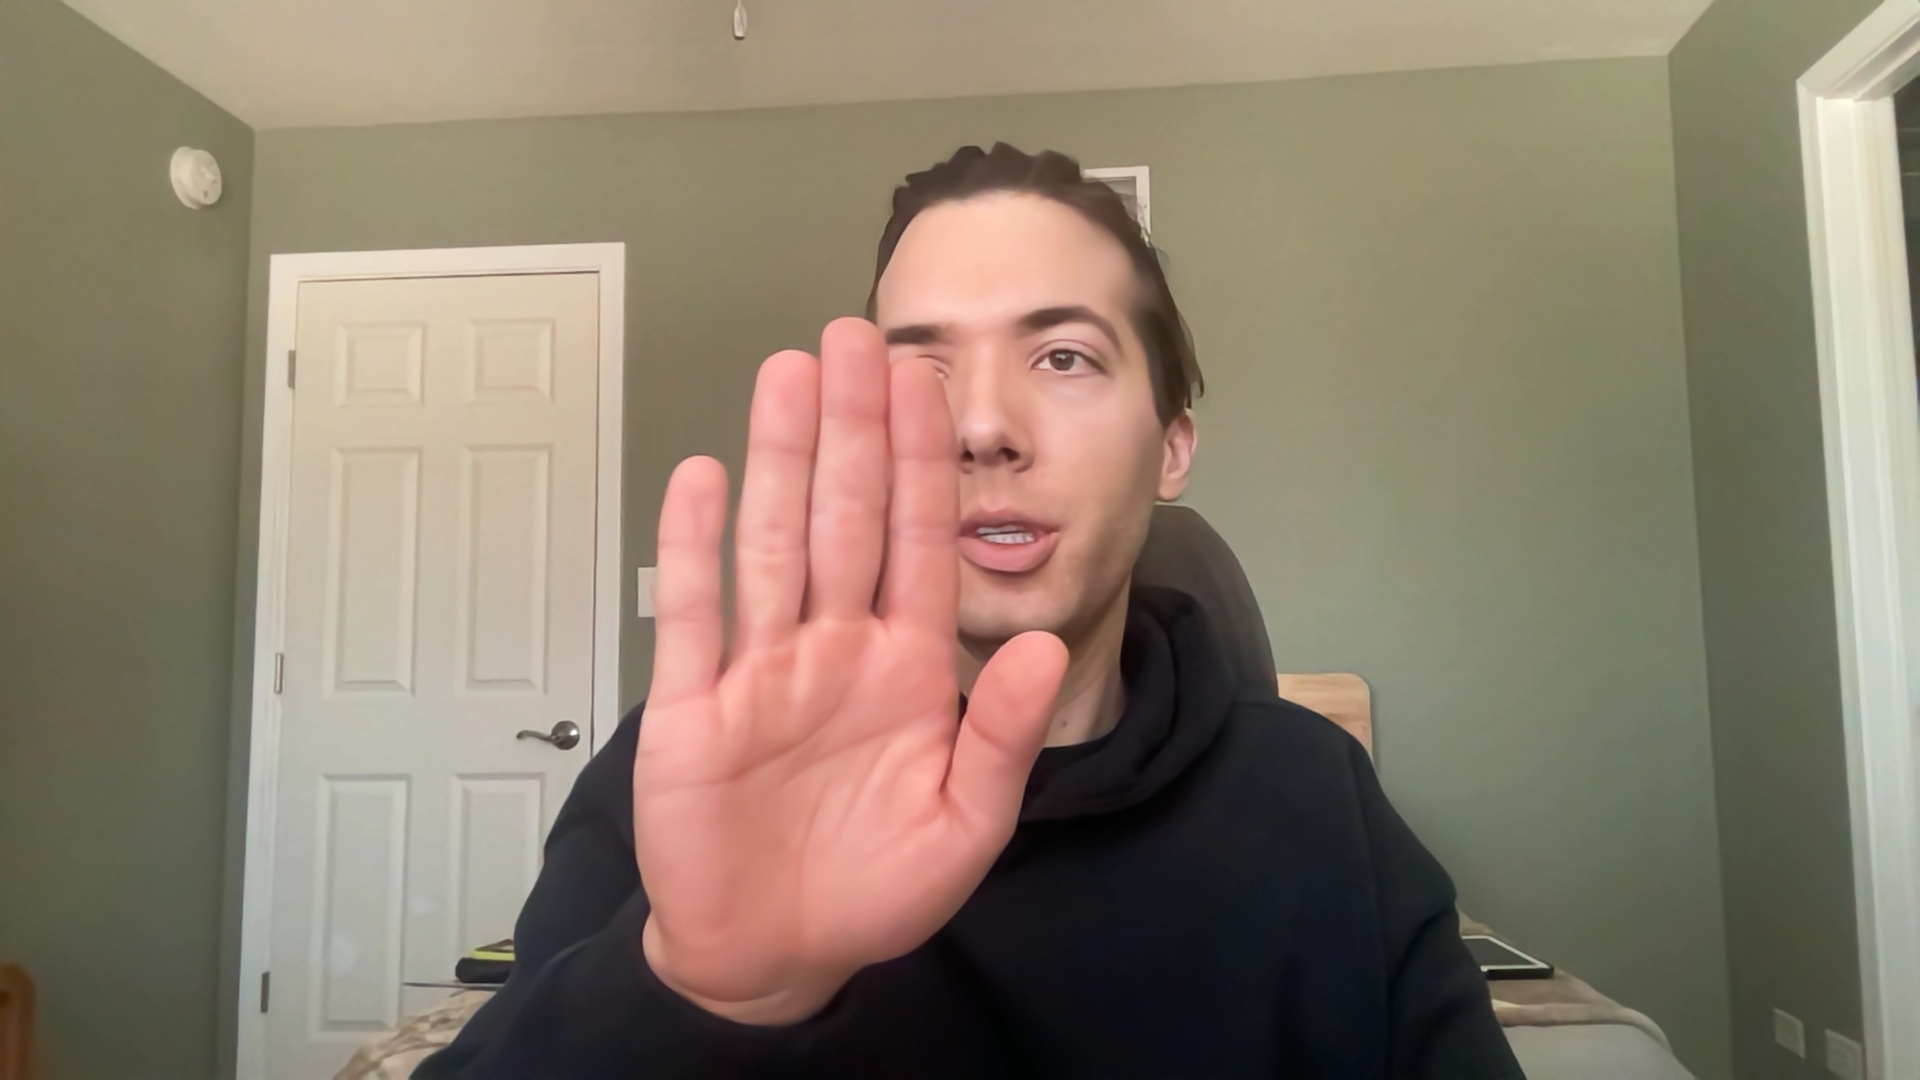Hello: (597, 305, 1077, 1025)
